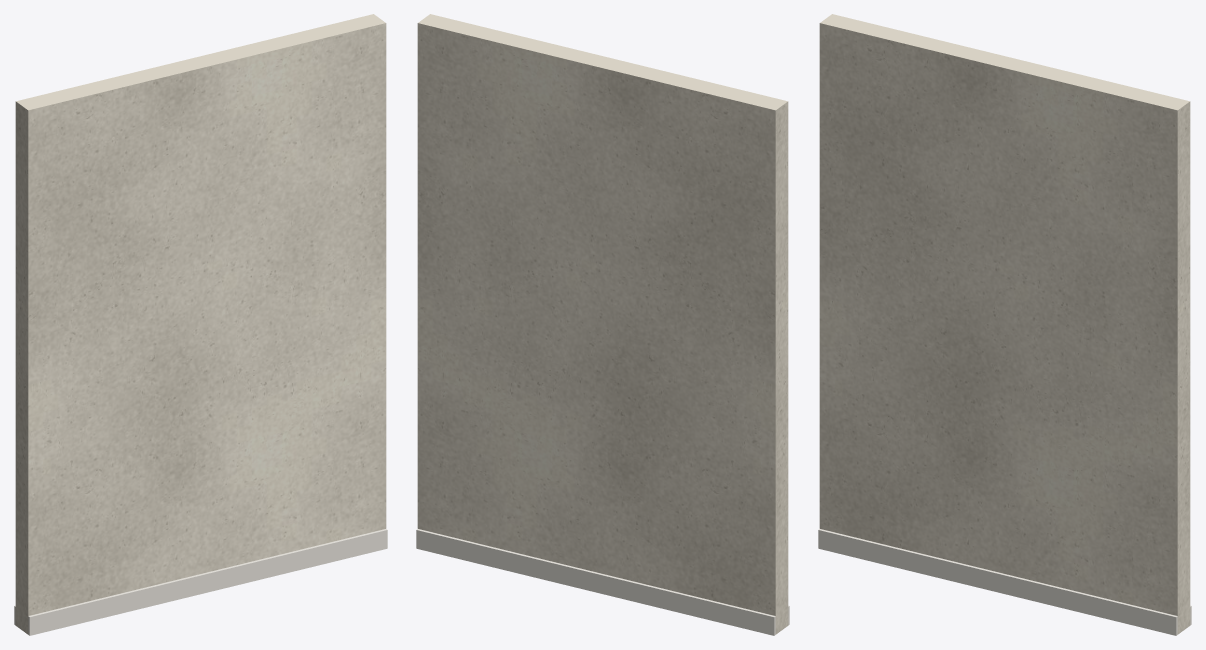
File: interior_wall_plain.glb
The picture shows the model from 3 angles, left to right: view 1: azimuth 30°, elevation 25°; view 2: azimuth 150°, elevation 25°; view 3: azimuth 330°, elevation 25°; orthographic projection.
Parts seen in each view (by area): view 1: interior_wall_plain_plaster, interior_wall_plain_trim; view 2: interior_wall_plain_plaster, interior_wall_plain_trim; view 3: interior_wall_plain_plaster, interior_wall_plain_trim.
Boxes of the visible parts, x1,y1,x2,y2 form: interior_wall_plain_plaster: (15, 14, 386, 634); interior_wall_plain_trim: (14, 529, 387, 635); interior_wall_plain_plaster: (417, 14, 788, 634); interior_wall_plain_trim: (416, 529, 789, 635); interior_wall_plain_plaster: (819, 14, 1190, 634); interior_wall_plain_trim: (818, 529, 1191, 635).
Bounding box in the file's own units: 2 × 2.8 × 0.15.
Materials: 2 (1 with a texture image).
